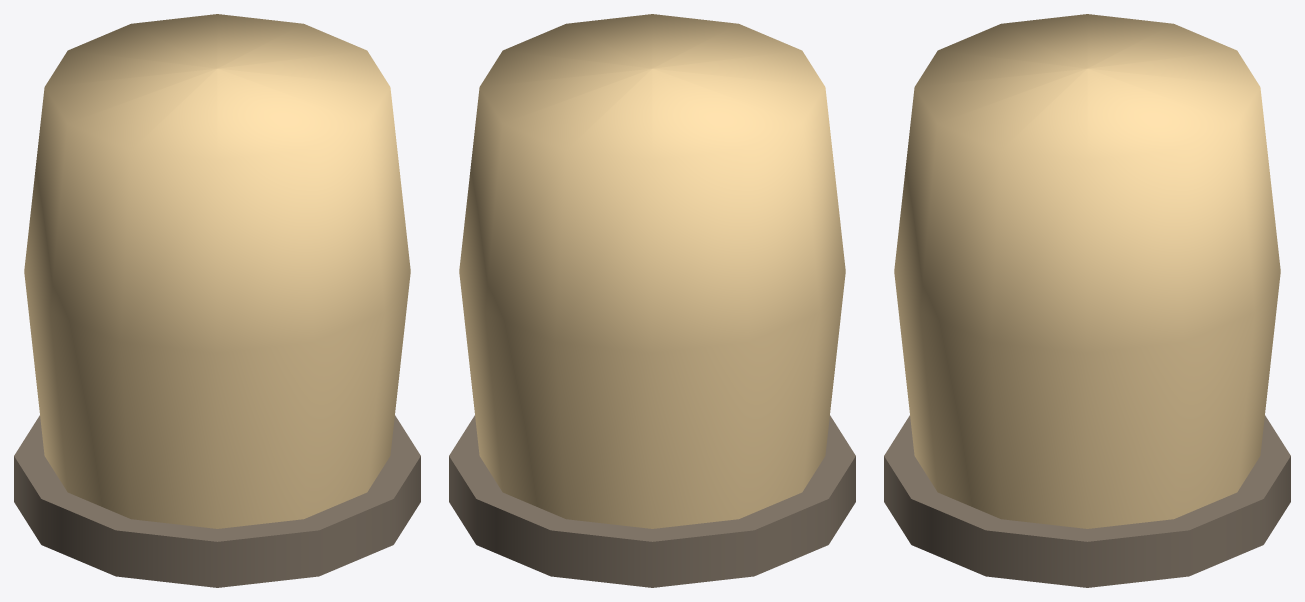
The model's file is SM_SandLantern.fbx.
The picture shows the model from 3 angles, left to right: view 1: azimuth 30°, elevation 25°; view 2: azimuth 150°, elevation 25°; view 3: azimuth 270°, elevation 25°; orthographic projection.
Visible parts, largest first — view 1: SM_SandLantern; view 2: SM_SandLantern; view 3: SM_SandLantern.
Boxes of the visible parts, <box> form: SM_SandLantern: <box>14,14,420,587</box>; SM_SandLantern: <box>449,14,855,587</box>; SM_SandLantern: <box>884,14,1290,587</box>.
Size of the model in its own units: 40 by 47 by 40.
